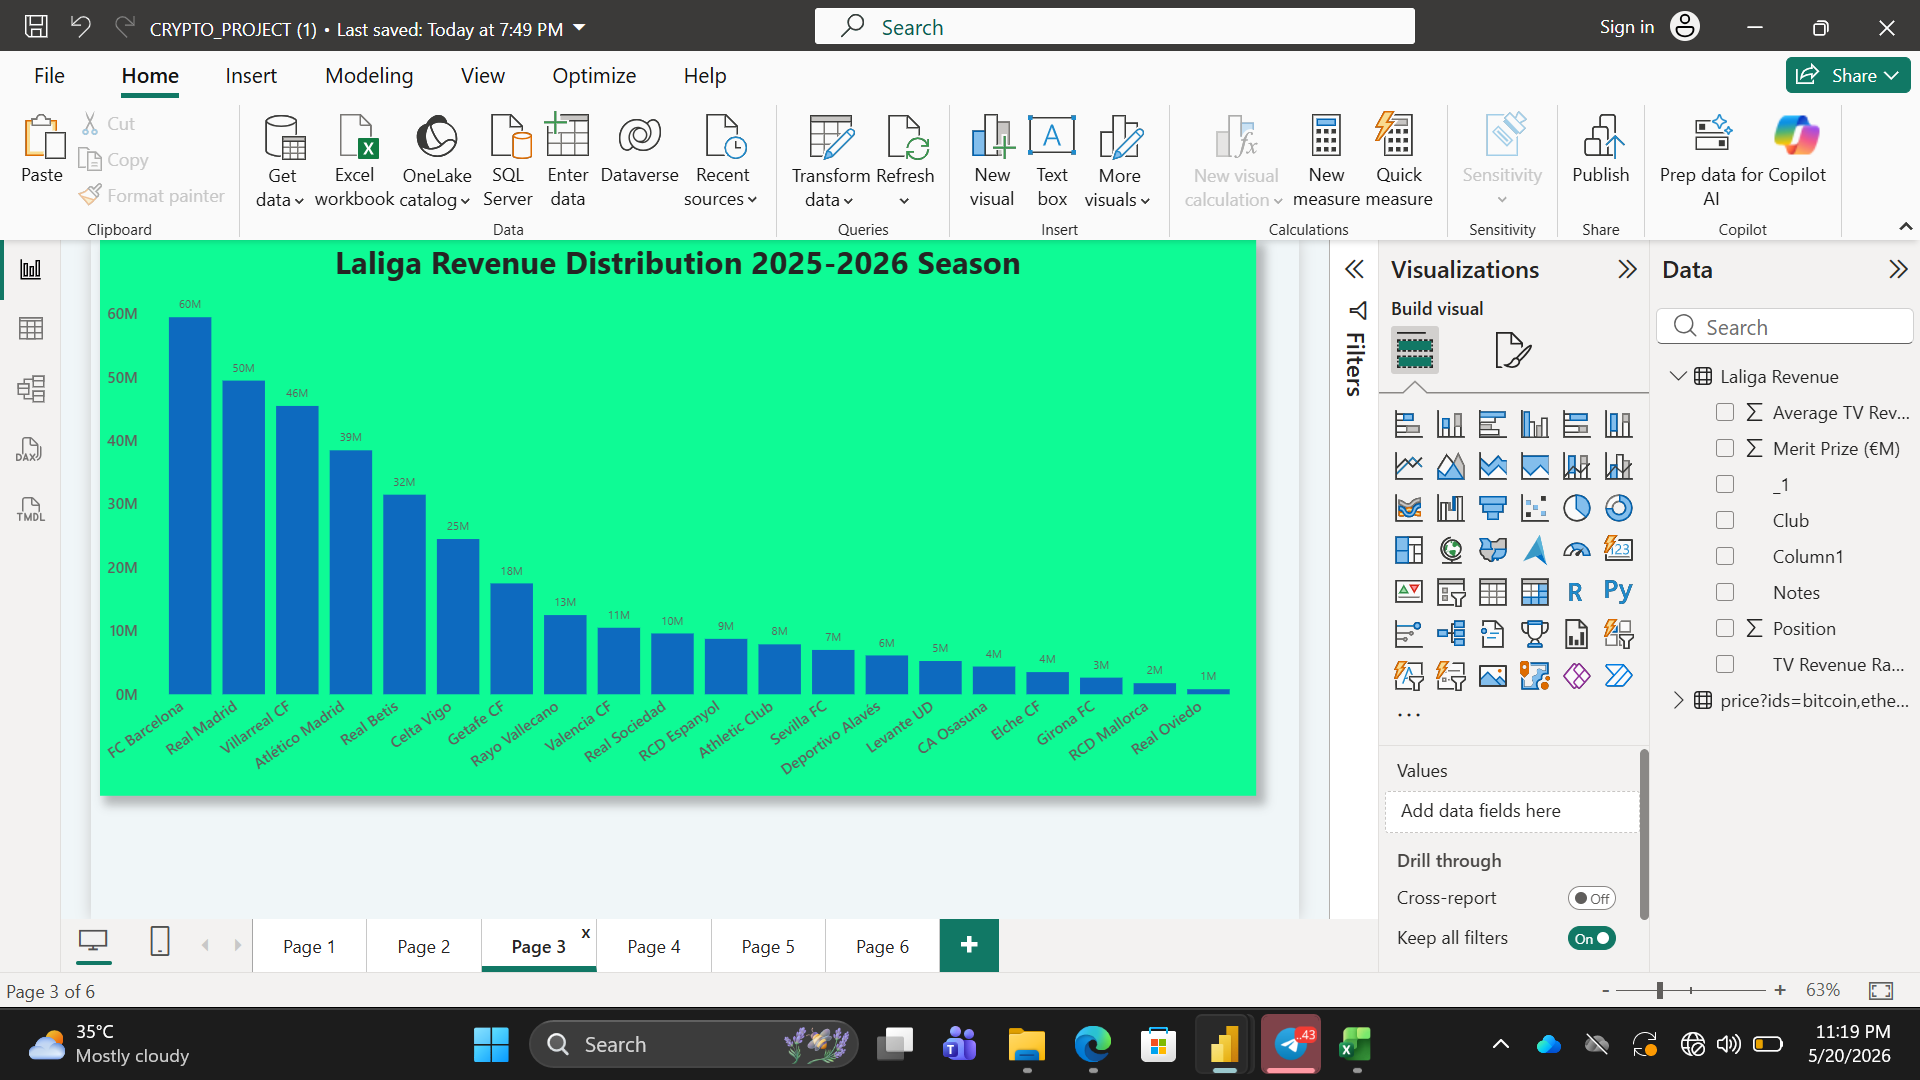

Layout of this report page (visuals, bound fields, positions):
{"tool":"powerbi","page":{"name":"Page 3","canvas":[1280,720],"ordinal":2},"visuals":[{"type":"columnChart","title":"Laliga Revenue Distribution 2025-2026 Season","fields":{"Y":["Sum(Laliga Revenue. Merit Prize (€M) )"],"Category":["Laliga Revenue.Club"]},"box":[9.7,0,1225.8,589.4],"z":0}]}

Visuals, with their boxes on the page's 1280x720 design canvas (x1, y1, x2, y2). These are canvas units, not pixel positions in the 1920x1080 screenshot, which may show the page scaled, cropped or inside an application window:
"Laliga Revenue Distribution 2025-2026 Season" columnChart: l=10, t=0, r=1236, b=589
